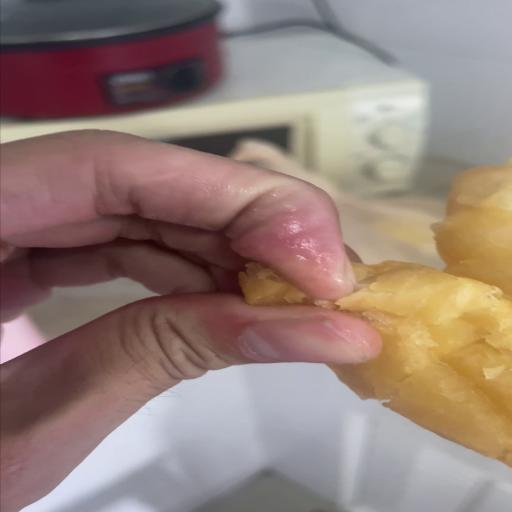street_golden_defect: (239, 165, 512, 468)
